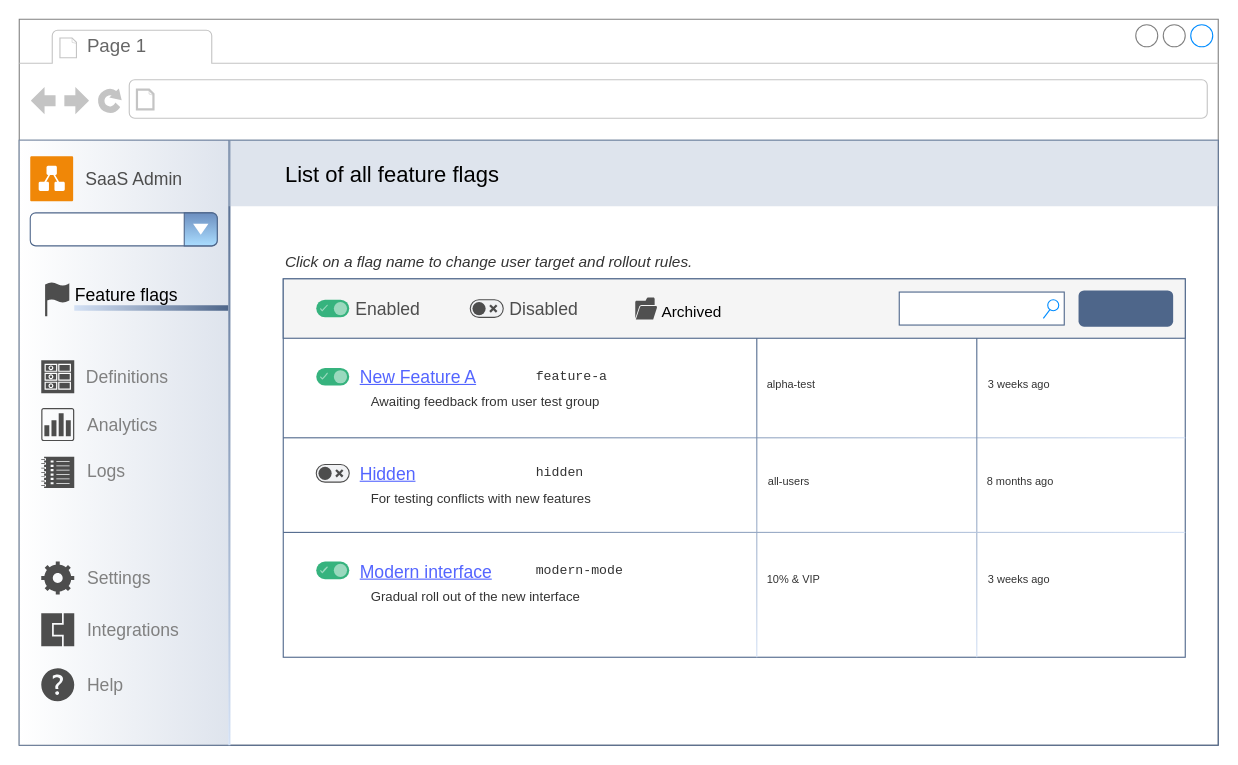
Image size: 1238x765. Some labels were removed from this diagram. Here are the shapes that lost their labels. From the top down, the box of each, then its label:
(29, 212, 217, 246): Production
(898, 291, 1064, 325): Search
(1078, 290, 1173, 326): + Create
